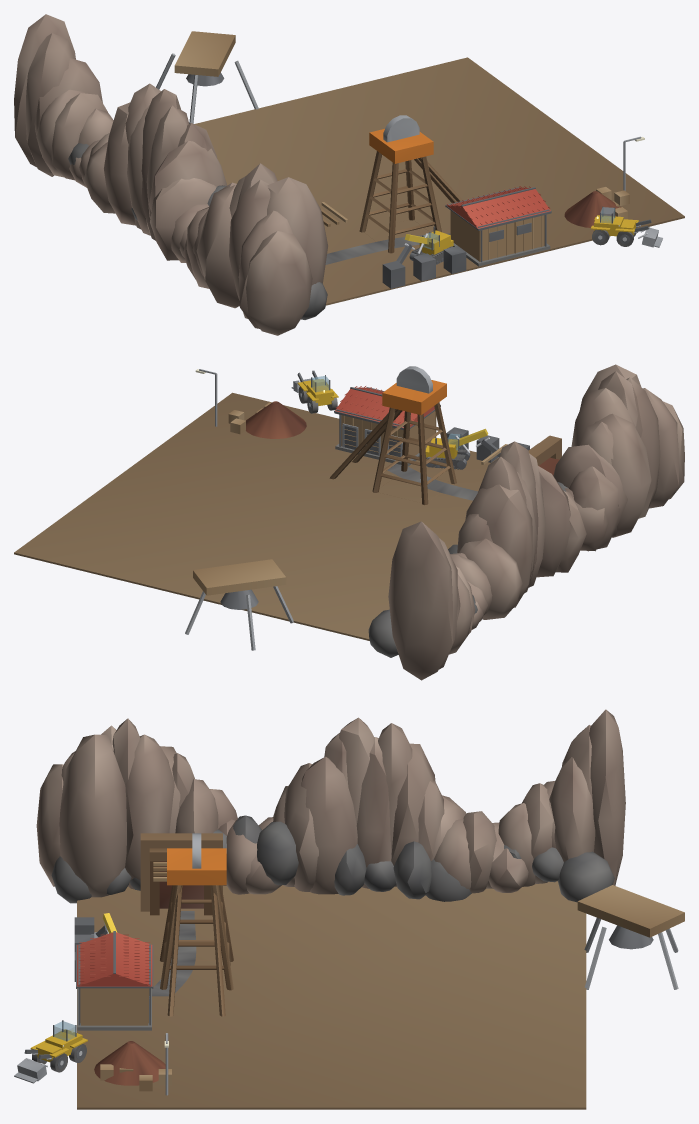
The model's file is Mine_P1.fbx.
The picture shows the model from 3 angles, top to bottom: view 1: azimuth 30°, elevation 25°; view 2: azimuth 150°, elevation 25°; view 3: azimuth 270°, elevation 25°; orthographic projection. The views are drawn at different scales.
Visible parts, largest first — view 1: Mine.Apron, Mine.Cliff, Mine.Winder, Mine.Headframe, Mine.LoadGantry, Mine.Clutter, Mine.Loader, Mine.Spoil0, Mine.Excav, Mine.Track0; view 2: Mine.Apron, Mine.Cliff, Mine.Headframe, Mine.Winder, Mine.LoadGantry, Mine.Spoil0, Mine.Excav, Mine.Loader, Mine.Clutter, Mine.Adit0, Mine.Track0; view 3: Mine.Apron, Mine.Cliff, Mine.Winder, Mine.Headframe, Mine.LoadGantry, Mine.Adit0, Mine.Loader, Mine.Spoil0, Mine.Clutter, Mine.Track0.
Part boxes in pixels (box(x1,y1,x2,y2)): Mine.Apron: box(194, 57, 684, 305); Mine.Cliff: box(14, 14, 327, 335); Mine.Winder: box(445, 186, 551, 266); Mine.Headframe: box(359, 115, 462, 253); Mine.LoadGantry: box(156, 31, 258, 123); Mine.Clutter: box(382, 187, 629, 288); Mine.Loader: box(590, 206, 662, 247); Mine.Spoil0: box(564, 191, 620, 227); Mine.Excav: box(396, 226, 453, 264); Mine.Track0: box(325, 233, 450, 264); Mine.Apron: box(14, 392, 498, 640); Mine.Cliff: box(368, 364, 684, 680); Mine.Headframe: box(329, 366, 456, 505); Mine.Winder: box(334, 386, 440, 466); Mine.LoadGantry: box(185, 559, 293, 650); Mine.Spoil0: box(246, 401, 306, 438); Mine.Excav: box(425, 428, 500, 469); Mine.Loader: box(291, 370, 338, 413); Mine.Clutter: box(228, 402, 529, 462); Mine.Adit0: box(481, 435, 561, 475); Mine.Track0: box(387, 463, 478, 500); Mine.Apron: box(77, 881, 586, 1109); Mine.Cliff: box(36, 709, 625, 903); Mine.Winder: box(76, 931, 153, 1030); Mine.Headframe: box(160, 833, 233, 1016); Mine.LoadGantry: box(577, 885, 684, 989); Mine.Adit0: box(140, 833, 222, 915); Mine.Loader: box(14, 1020, 87, 1083); Mine.Spoil0: box(94, 1041, 165, 1085); Mine.Clutter: box(74, 917, 171, 1091); Mine.Track0: box(152, 911, 196, 996).
Bounding box in the file's own units: 8094 × 2734 × 8959.
